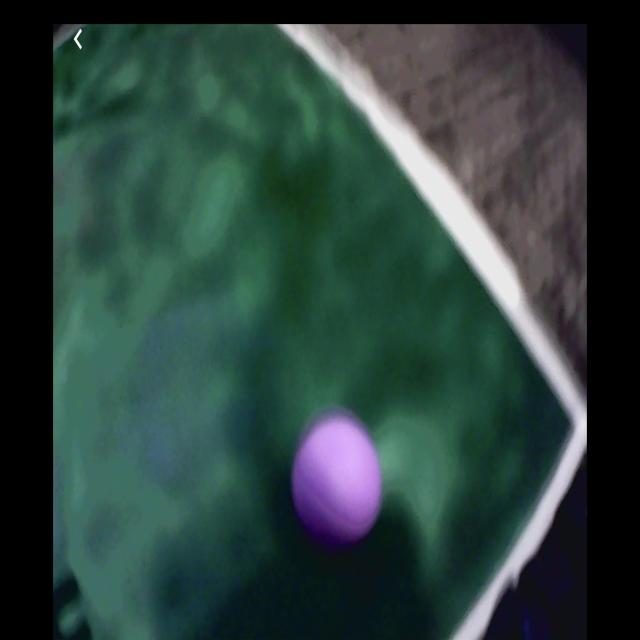ball: (292, 414, 385, 545)
